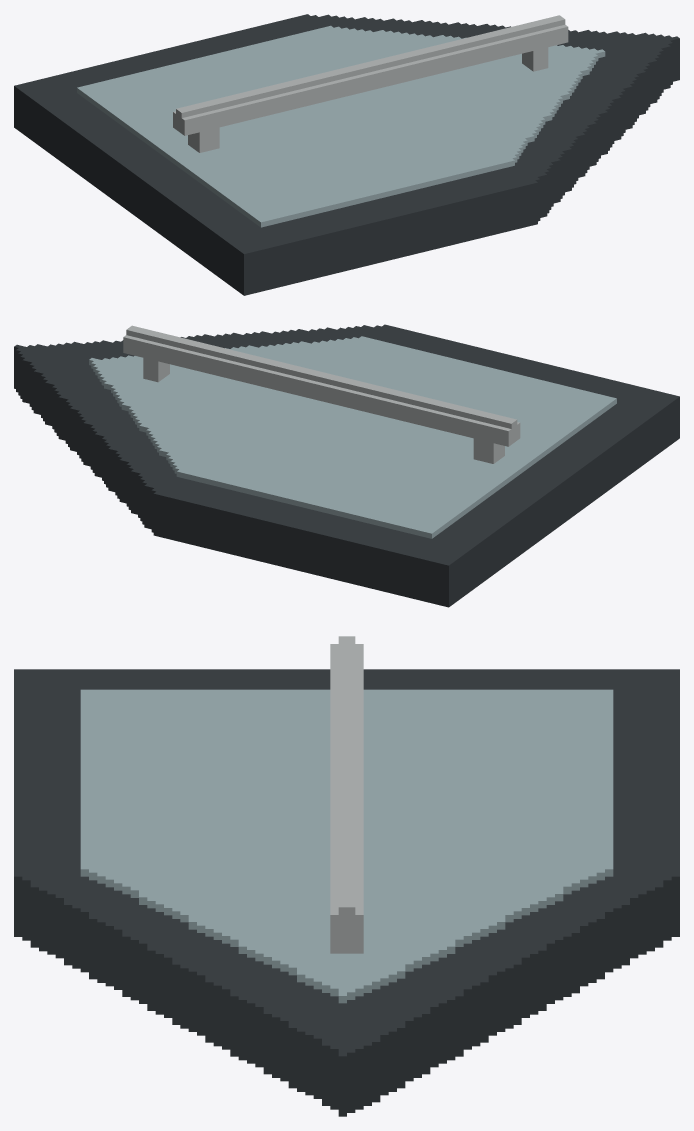
The model's file is kite_shield.glb.
3 views of the same model, one above another, from view 1: azimuth 30°, elevation 25°; view 2: azimuth 150°, elevation 25°; view 3: azimuth 270°, elevation 25° (orthographic). The views are drawn at different scales.
Visible parts, largest first — view 1: kite_shield:compound; view 2: kite_shield:compound; view 3: kite_shield:compound.
Part boxes in pixels (x1,y1,x2,y2): kite_shield:compound: [14, 14, 679, 295]; kite_shield:compound: [14, 324, 679, 607]; kite_shield:compound: [14, 636, 679, 1116].
Size of the model in its own units: 0.66 by 0.102 by 0.48.
